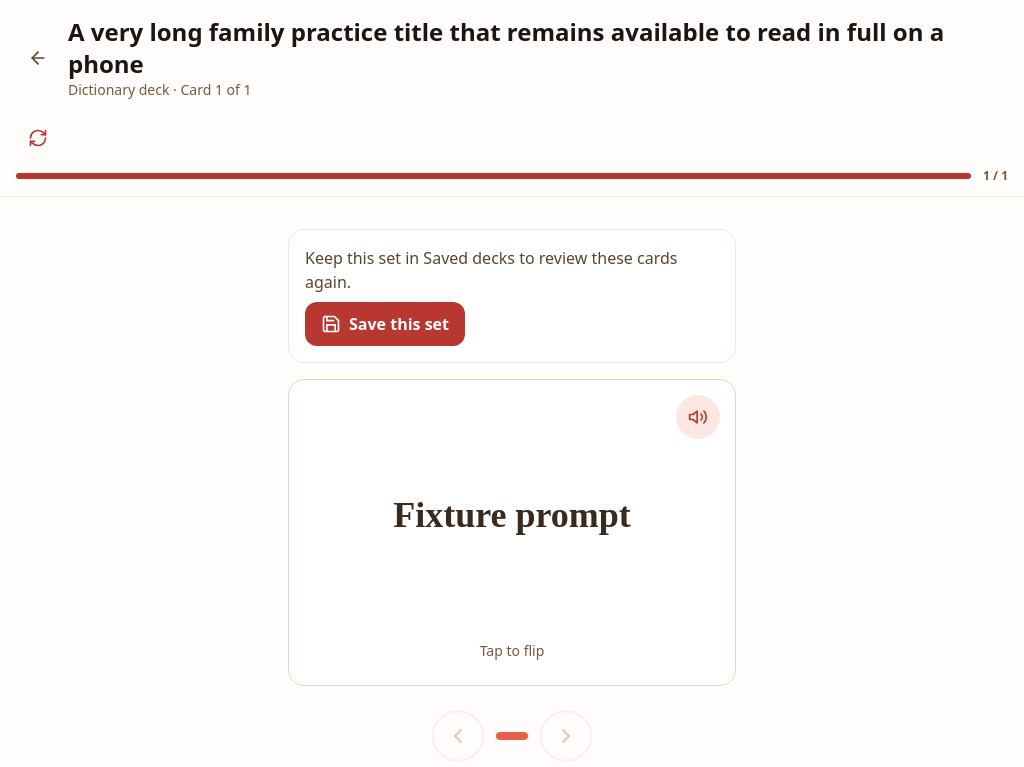
Scenario: describes an unconfirmed save honestly and reuses its request identity on retry
Later steps or results of the test are not shown.
Click the button "Save this set" at (385, 324), box [305,302,465,346]
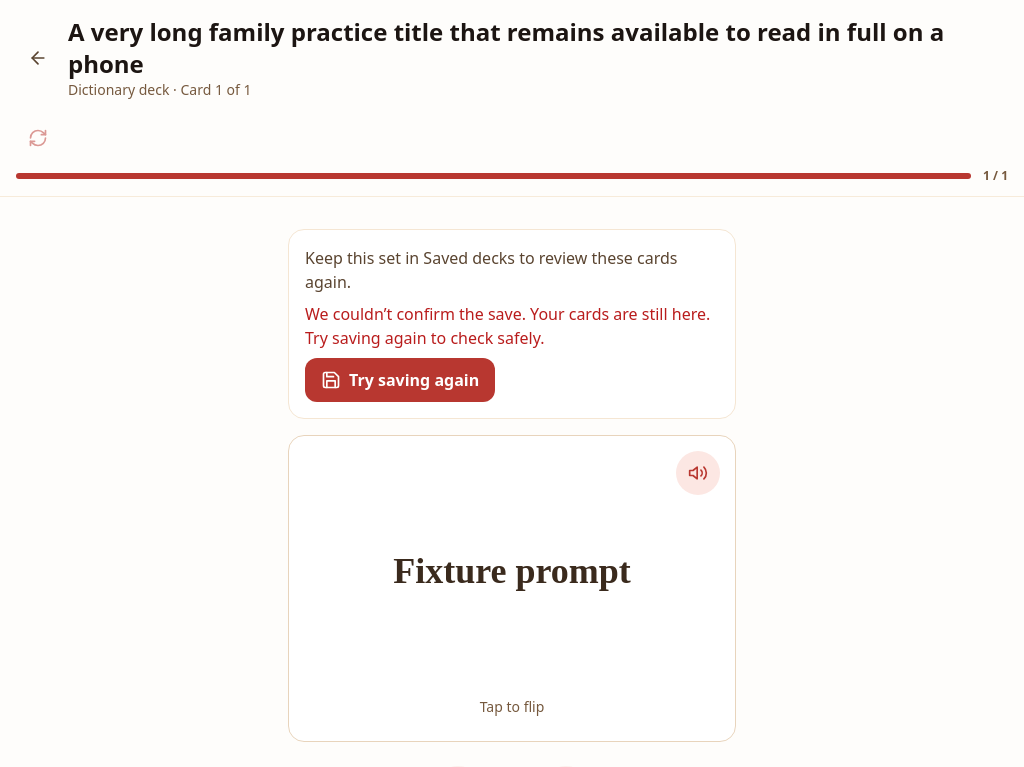
expect the message shows "couldn’t confirm the save": met, box [305,303,710,349]
